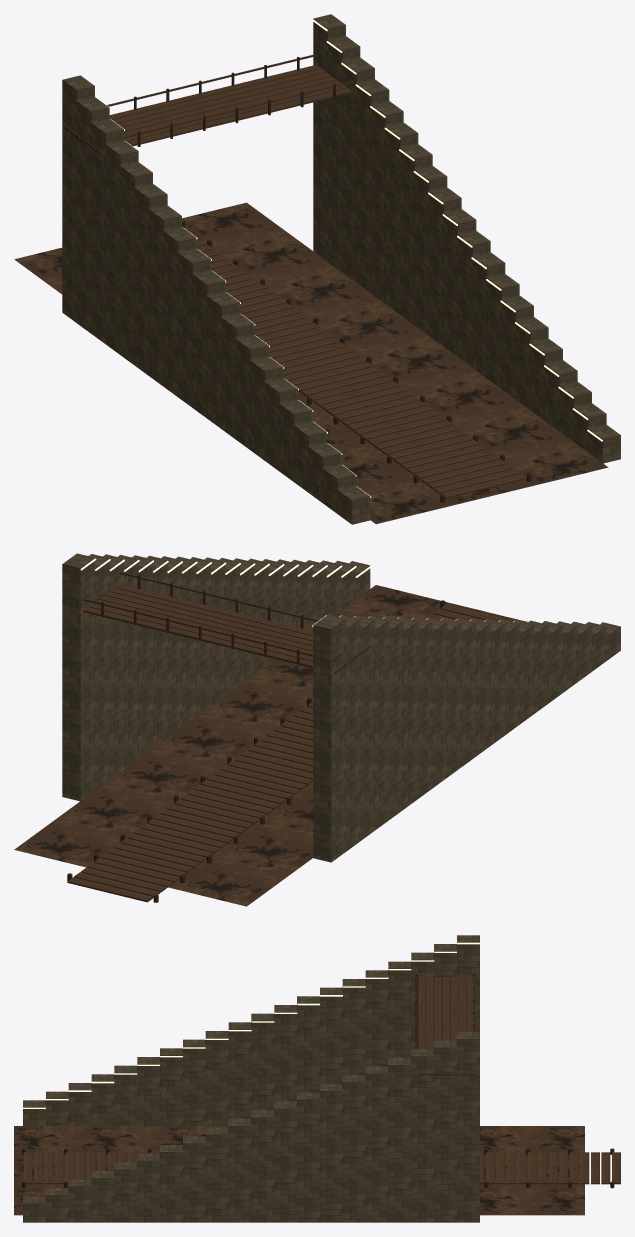
The model's file is mwm_entry.glb.
3 renders of one model, top to bottom at view 1: azimuth 30°, elevation 25°; view 2: azimuth 150°, elevation 25°; view 3: azimuth 270°, elevation 25°, orthographic. The views are drawn at different scales.
Size of the model in its own units: 27 by 22.2 by 66.45.
5 materials, 4 textured.
